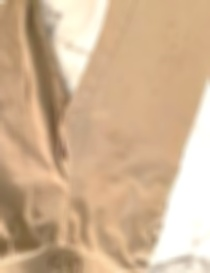oil: (95, 122, 130, 166), (144, 85, 161, 98)
